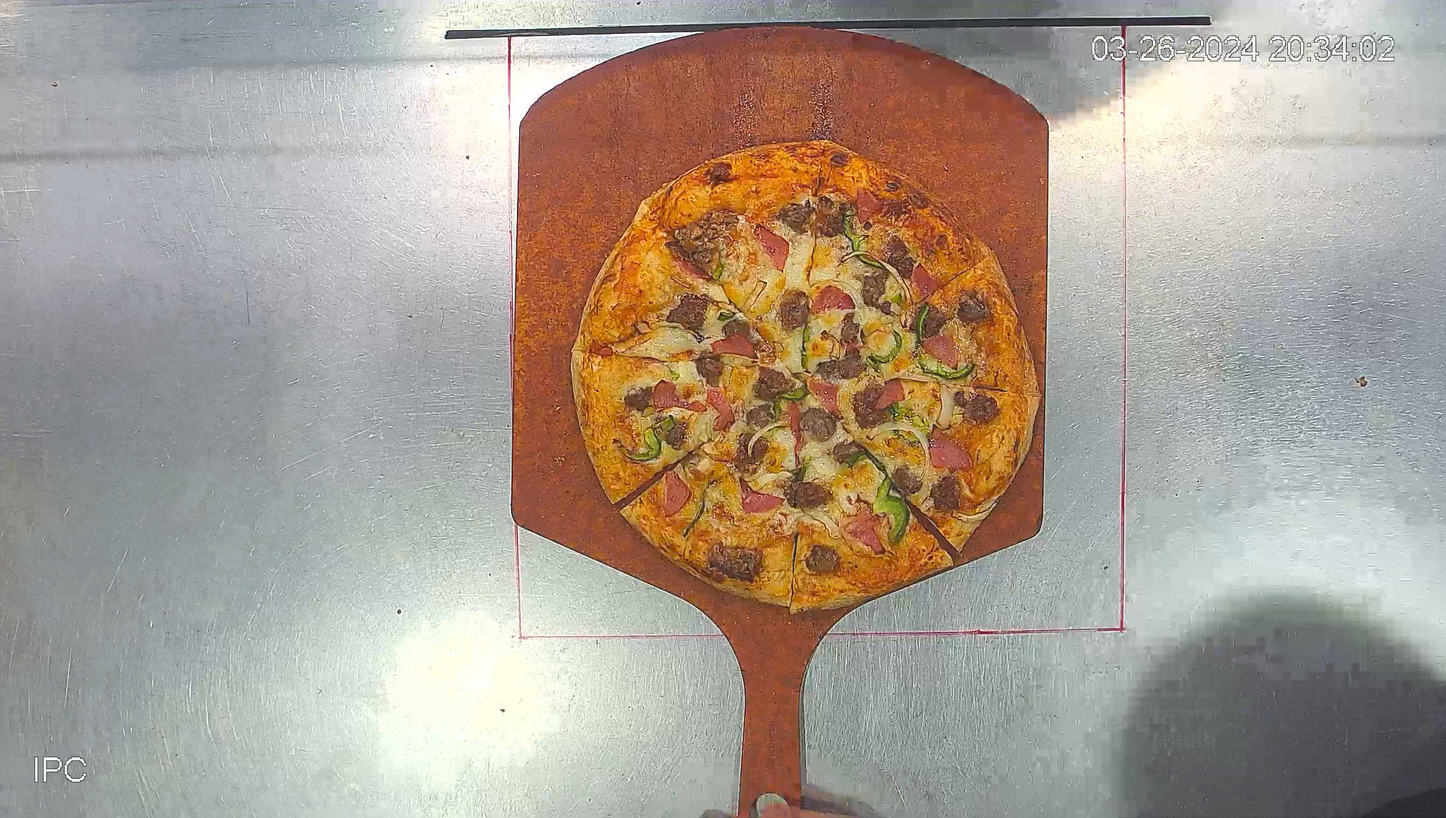hawaiian: (569, 140, 1038, 613)
